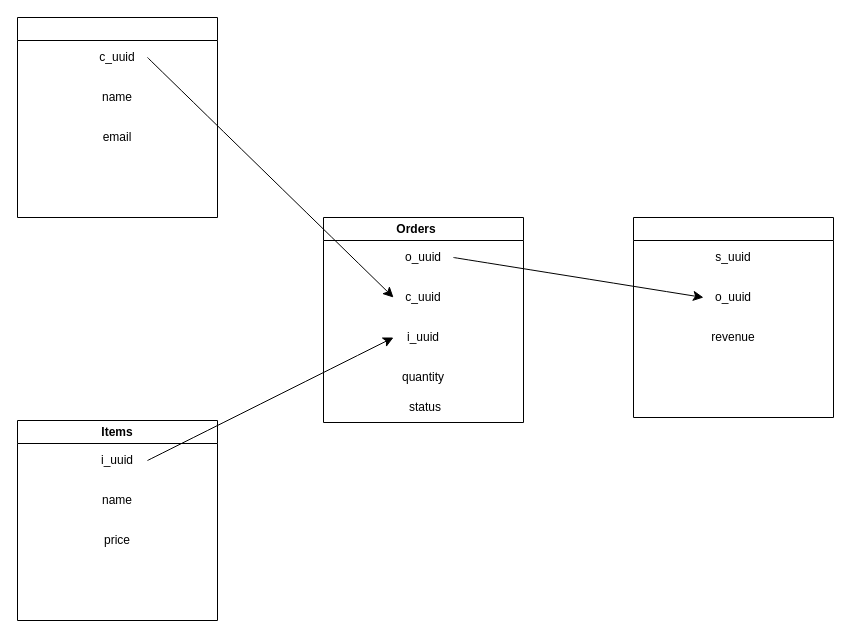
This 851x638 diagram has some shape labels left out. Each missing label, with the box of its shape:
Customers: (16, 16, 218, 218)
Sale: (632, 216, 834, 418)
